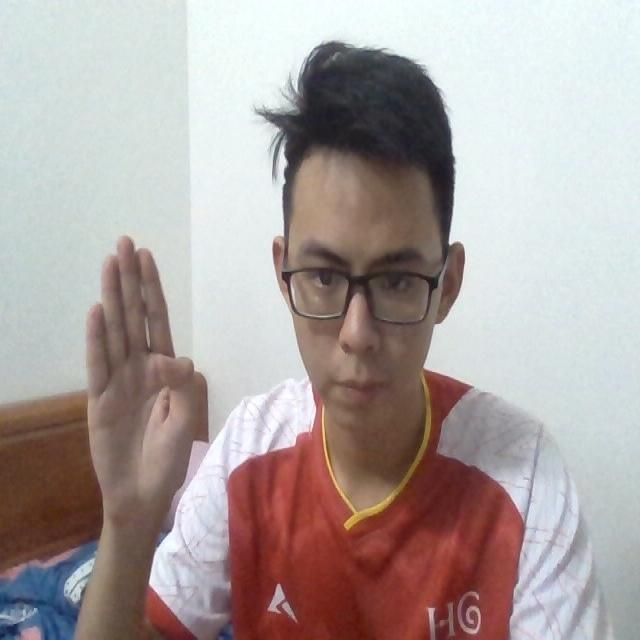B: (77, 223, 203, 502)
